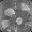people: (4, 8, 16, 17), (1, 19, 11, 28), (16, 17, 23, 25)
